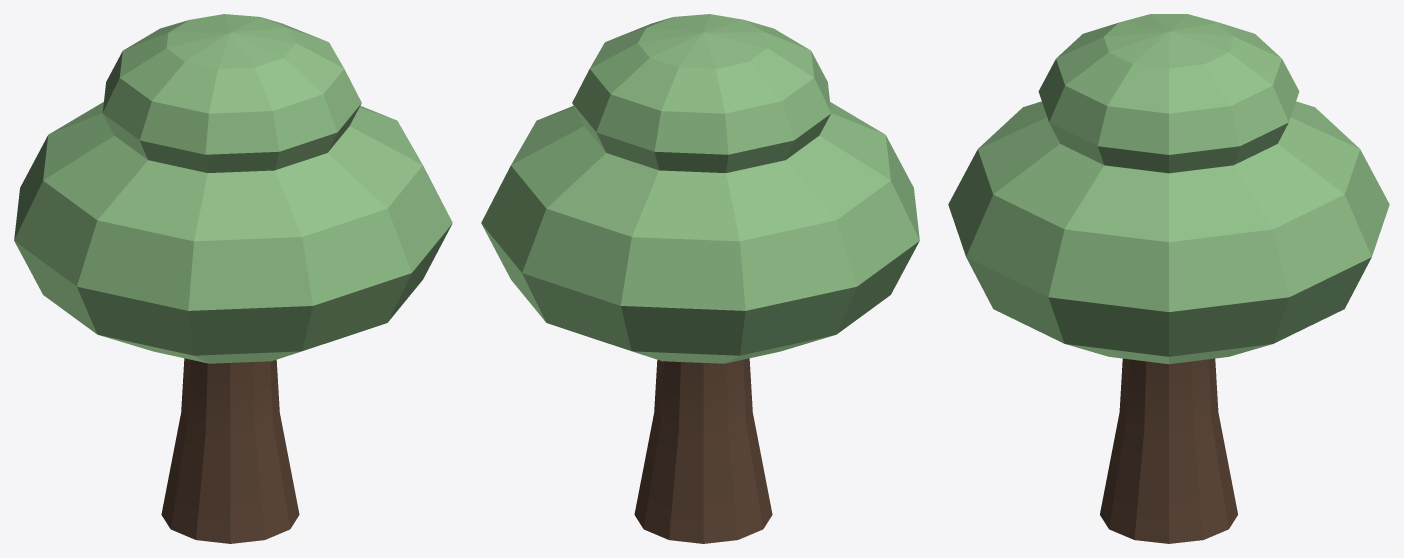
The model's file is tree.fbx.
3 renders of one model, left to right at view 1: azimuth 30°, elevation 25°; view 2: azimuth 150°, elevation 25°; view 3: azimuth 270°, elevation 25°, orthographic.
Parts seen in each view (by area): view 1: pSphere1, pSphere2, tree; view 2: pSphere1, pSphere2, tree; view 3: pSphere1, pSphere2, tree.
Boxes of the visible parts, <box> form: pSphere1: <box>14,102,452,363</box>; pSphere2: <box>102,14,361,172</box>; tree: <box>161,358,299,543</box>; pSphere1: <box>481,102,919,363</box>; pSphere2: <box>572,14,831,172</box>; tree: <box>634,358,772,543</box>; pSphere1: <box>948,101,1389,364</box>; pSphere2: <box>1038,14,1299,173</box>; tree: <box>1100,358,1237,543</box>.
Bounding box in the file's own units: 12.42 × 15.15 × 12.55.
